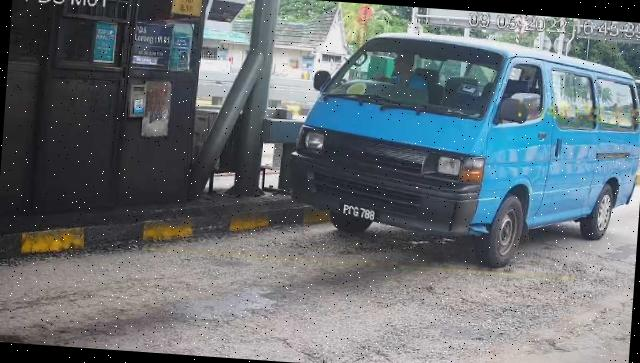License_Plate: (339, 201, 382, 225)
van: (285, 23, 640, 277)
